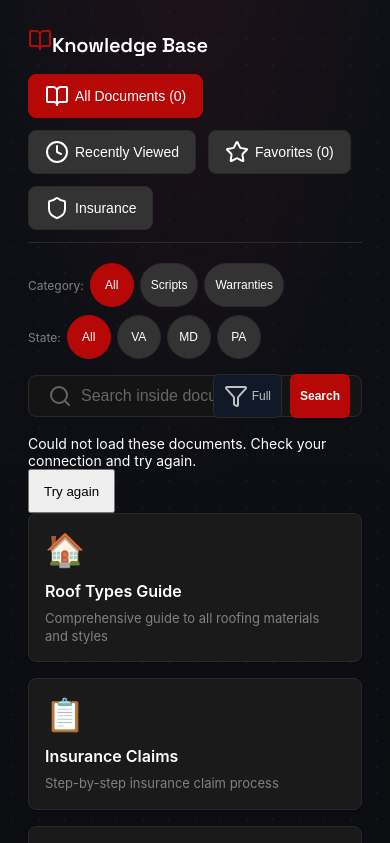
Test: shows a recoverable document loading failure
expect the message "Could not load these documents. Check your connection and try again. Try again" is shown: met, box [28, 435, 362, 513]
Click the button "Try again": (72, 491) [28, 469, 115, 513]
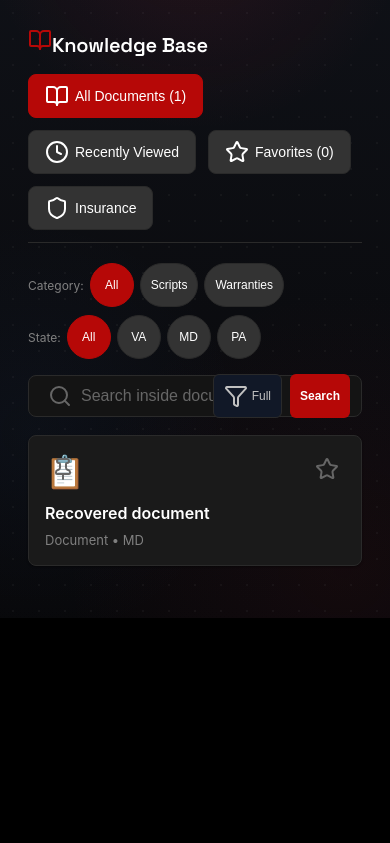
expect the text "Recovered document" is shown: met, box [45, 503, 210, 523]
